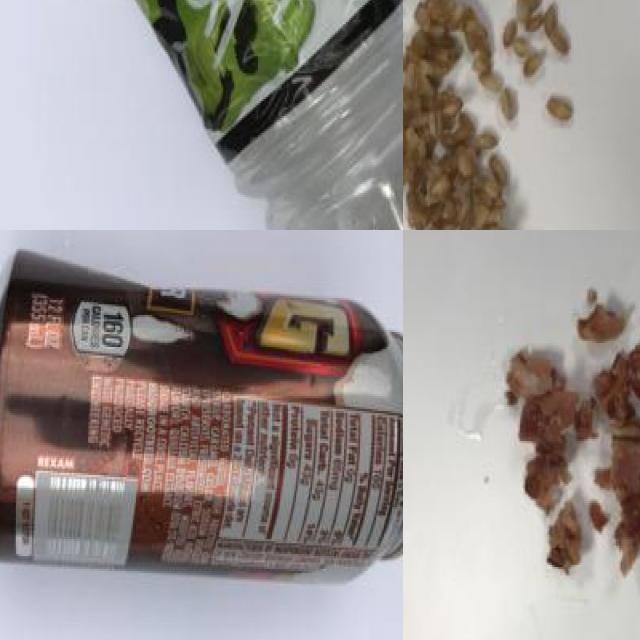compost: (491, 233, 640, 580), (403, 0, 583, 230)
plastic: (0, 253, 403, 589), (82, 0, 403, 230)
